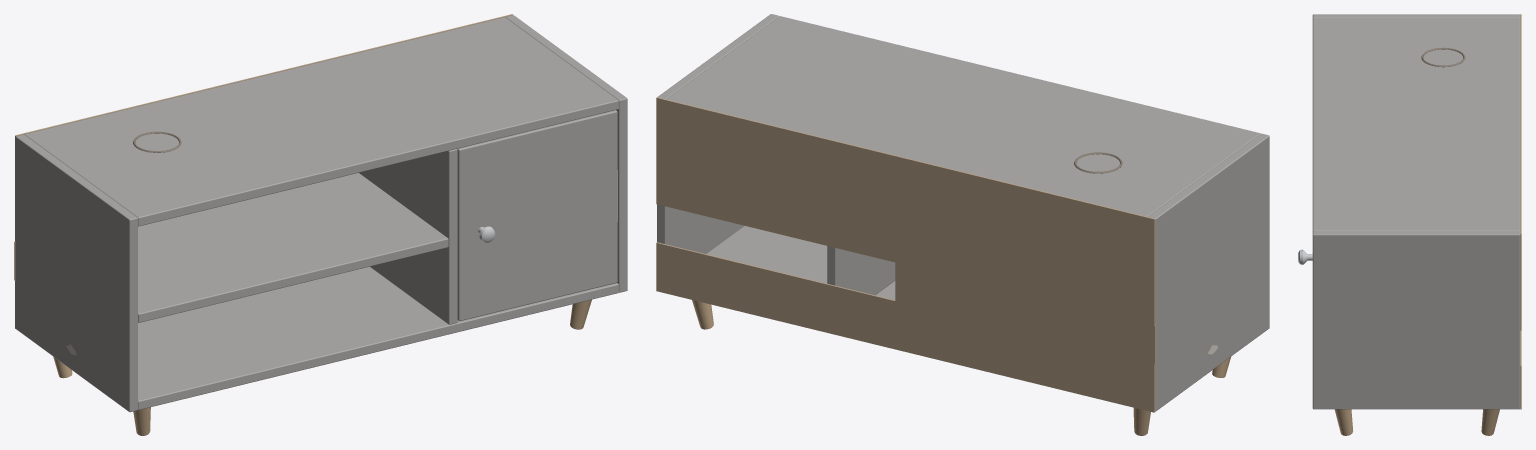
The model's file is furniture_tv_stand.fbx.
3 views of the same model, side by side, from view 1: azimuth 30°, elevation 25°; view 2: azimuth 150°, elevation 25°; view 3: azimuth 270°, elevation 25° (orthographic). The views are drawn at different scales.
Visible parts, largest first — view 1: body, door_R; view 2: body; view 3: body.
Part boxes in pixels (x1,y1,x2,y2): body: [14, 14, 627, 435]; door_R: [457, 110, 617, 321]; body: [656, 14, 1269, 435]; body: [1312, 14, 1521, 435].
Bounding box in the file's own units: 1 × 0.4535 × 0.428.
